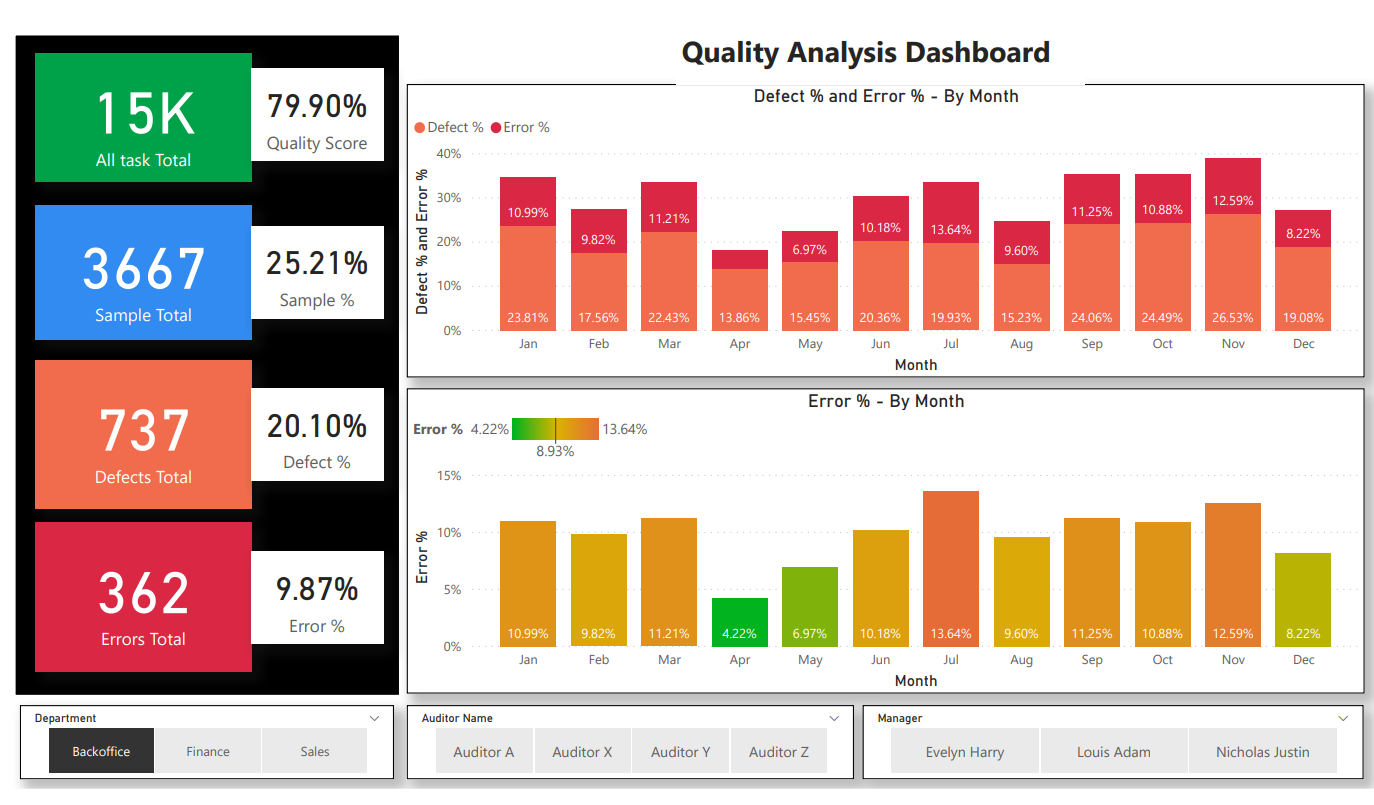

The page's visual inventory and layout, read from the dashboard file:
{"tool":"powerbi","page":{"name":"Overview","canvas":[1280,720],"ordinal":0},"visuals":[{"type":"basicShape","box":[9,10.1,369.9,631.5],"z":0,"group":"g1"},{"type":"group","id":"g1","title":"Group 1","box":[9,10.1,369.9,631.5],"z":0},{"type":"card","fields":{"Values":["All Measures.All task Total"]},"box":[33.8,34.9,200.7,119.5],"z":1000,"group":"g1"},{"type":"columnChart","title":"Defect % and Error % - By Month","fields":{"Category":["Calender.Month"],"Y":["All Measures.Defect %","All Measures.Erro %"]},"box":[378.9,64.6,890.6,272.9],"z":1000},{"type":"card","fields":{"Values":["All Measures.Quality Score"]},"box":[234.6,49.6,122.9,85.7],"z":2000,"group":"g1"},{"type":"clusteredColumnChart","title":"Error % - By Month","fields":{"Category":["Calender.Month"],"Y":["All Measures.Erro %"]},"box":[378.9,347.4,890.6,283.7],"z":2000},{"type":"card","fields":{"Values":["All Measures.Sample Total"]},"box":[33.8,177,200.7,125.2],"z":3000,"group":"g1"},{"type":"slicer","fields":{"Values":["Employee Details.Department"]},"box":[19.2,641.7,348.5,68.8],"z":3000},{"type":"card","fields":{"Values":["All Measures.Sample %"]},"box":[234.6,197.3,122.9,85.7],"z":4000,"group":"g1"},{"type":"slicer","fields":{"Values":["Auditor Details.Auditor Name"]},"box":[378.9,641.7,416.1,68.8],"z":4000},{"type":"card","fields":{"Values":["All Measures.Defects Total"]},"box":[33.8,321.4,200.7,137.6],"z":5000,"group":"g1"},{"type":"slicer","fields":{"Values":["Employee Details.Manager"]},"box":[803,641.7,465.8,68.8],"z":5000},{"type":"textbox","box":[630.2,9.9,379.8,54.8],"z":5001},{"type":"card","fields":{"Values":["All Measures.Defect %"]},"box":[234.6,347.3,122.9,85.7],"z":6000,"group":"g1"},{"type":"card","fields":{"Values":["All Measures.Errors Total"]},"box":[33.8,472.5,200.7,138.7],"z":7000,"group":"g1"},{"type":"card","fields":{"Values":["All Measures.Erro %"]},"box":[234.6,499.5,122.9,85.7],"z":8000,"group":"g1"}]}

Visuals, with their boxes in screenshot pixels (x1, y1, x2, y2):
basicShape: bbox=[17, 32, 408, 701]
"Group 1" group: bbox=[17, 32, 408, 701]
card - All Measures.All task Total: bbox=[43, 58, 255, 185]
"Defect % and Error % - By Month" columnChart: bbox=[408, 90, 1351, 379]
card - All Measures.Quality Score: bbox=[255, 74, 385, 165]
"Error % - By Month" clusteredColumnChart: bbox=[408, 389, 1351, 690]
card - All Measures.Sample Total: bbox=[43, 209, 255, 341]
slicer - Employee Details.Department: bbox=[27, 701, 396, 774]
card - All Measures.Sample %: bbox=[255, 230, 385, 321]
slicer - Auditor Details.Auditor Name: bbox=[408, 701, 849, 774]
card - All Measures.Defects Total: bbox=[43, 362, 255, 507]
slicer - Employee Details.Manager: bbox=[857, 701, 1350, 774]
textbox: bbox=[674, 32, 1076, 90]
card - All Measures.Defect %: bbox=[255, 389, 385, 480]
card - All Measures.Errors Total: bbox=[43, 522, 255, 669]
card - All Measures.Erro %: bbox=[255, 550, 385, 641]
